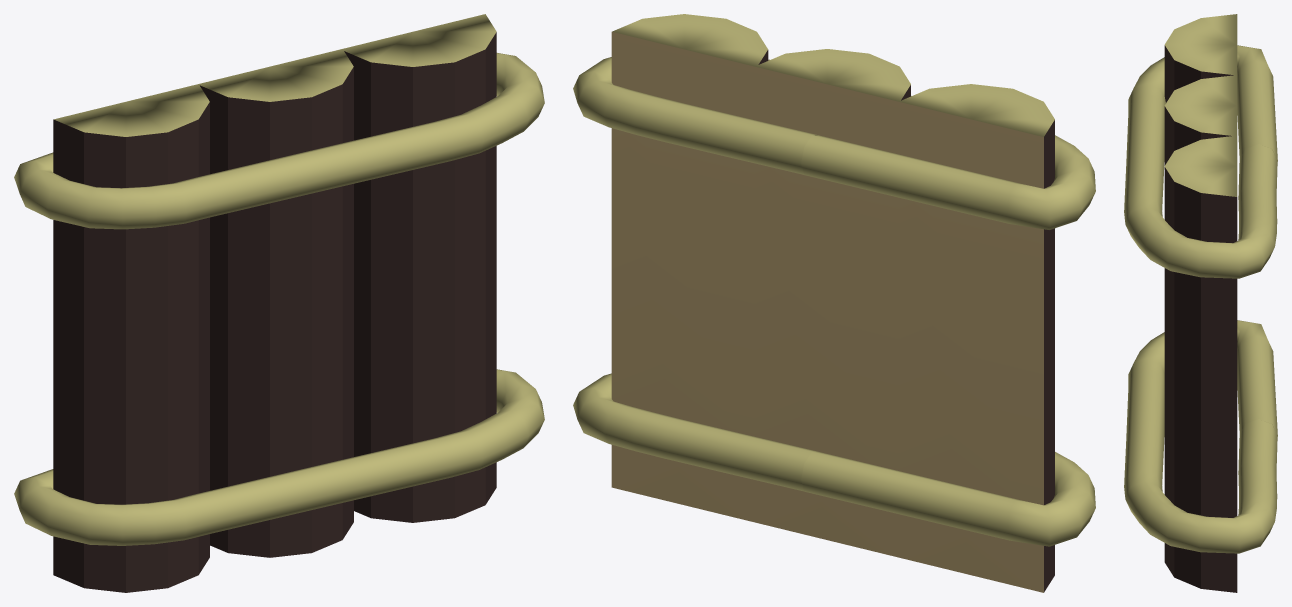
Rendered from NewDoor.fbx.
3 views of the same model, side by side, from view 1: azimuth 30°, elevation 25°; view 2: azimuth 150°, elevation 25°; view 3: azimuth 270°, elevation 25° (orthographic). The views are drawn at different scales.
Parts seen in each view (by area): view 1: DoorPlank1, DoorPlank2, DoorPlank3, DoorRope2, DoorRope1; view 2: DoorPlank1, DoorPlank2, DoorPlank3, DoorRope1, DoorRope2; view 3: DoorPlank3, DoorRope1, DoorRope2, DoorPlank1, DoorPlank2.
Boxes of the visible parts, x1,y1,x2,y2 form: DoorPlank1: (53,84,209,592); DoorPlank2: (198,49,353,557); DoorPlank3: (343,14,496,522); DoorRope2: (14,369,544,545); DoorRope1: (14,53,544,229); DoorPlank1: (898,84,1054,592); DoorPlank2: (754,49,910,557); DoorPlank3: (611,14,768,522); DoorRope1: (573,57,1095,229); DoorRope2: (573,373,1095,546); DoorPlank3: (1164,136,1237,592); DoorRope1: (1124,45,1277,278); DoorRope2: (1124,320,1277,553); DoorPlank1: (1164,14,1237,102); DoorPlank2: (1164,75,1237,165).
Bounding box in the file's own units: 3.17 × 2.73 × 0.9619.
